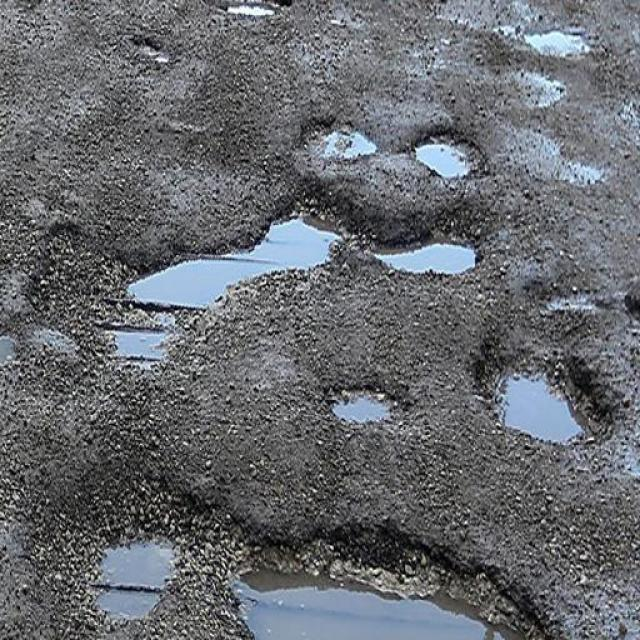puddle: (241, 551, 510, 640), (130, 241, 290, 325), (500, 366, 590, 463), (260, 218, 354, 289), (381, 236, 510, 267)
